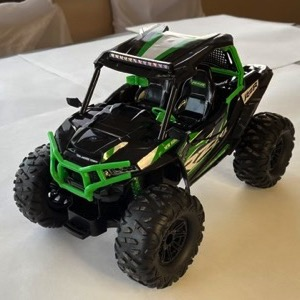polaris: (15, 21, 296, 291)
